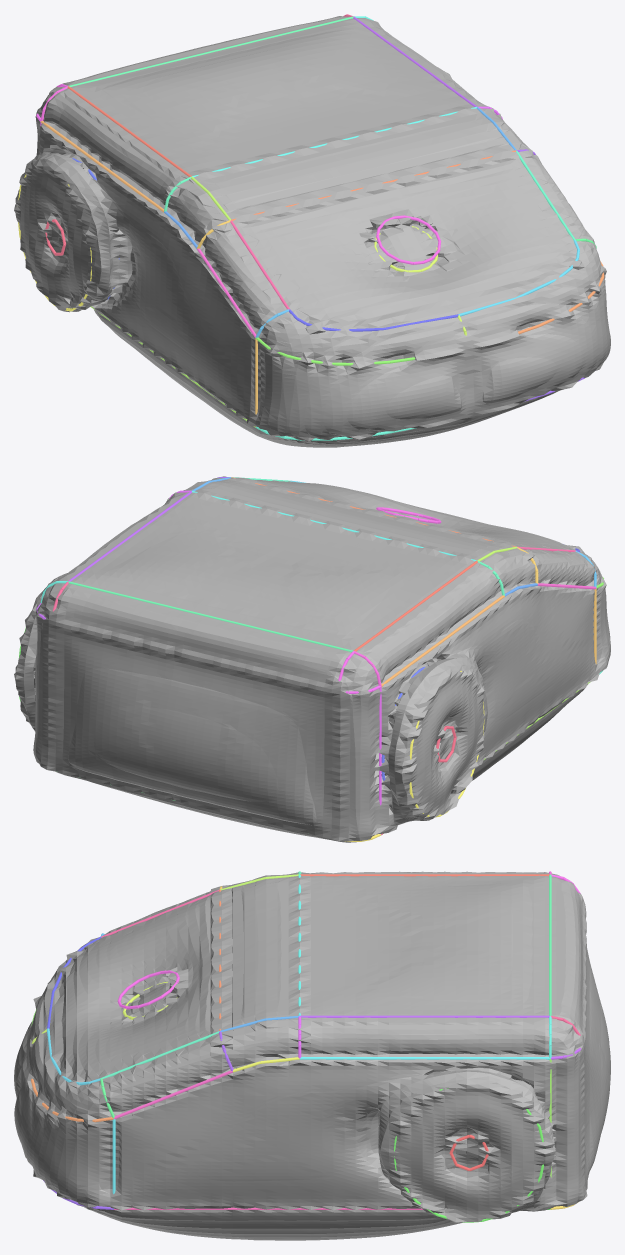
Rendered from onshape_vacuum.gltf.
The picture shows the model from 3 angles, top to bottom: view 1: azimuth 30°, elevation 25°; view 2: azimuth 150°, elevation 25°; view 3: azimuth 270°, elevation 25°; orthographic projection.
Bounding box in the file's own units: 0.6348 × 0.3931 × 0.8032.
